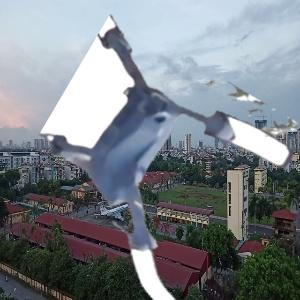drone: (34, 57, 277, 300)
